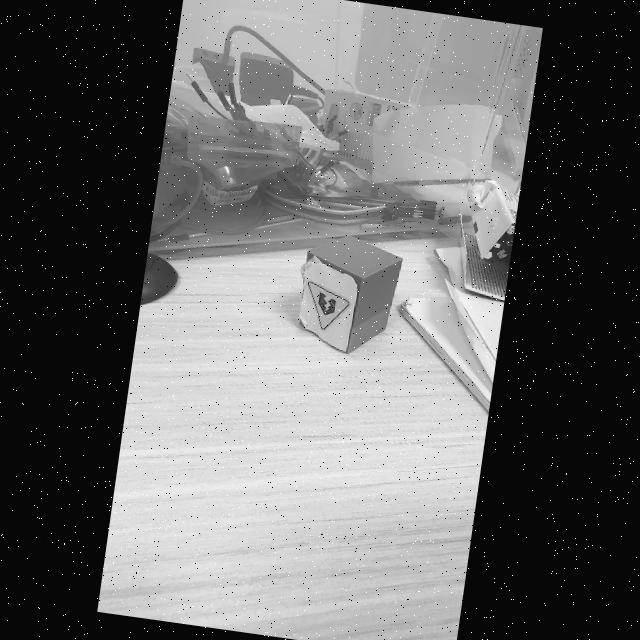Earthquake: (307, 281, 349, 330)
